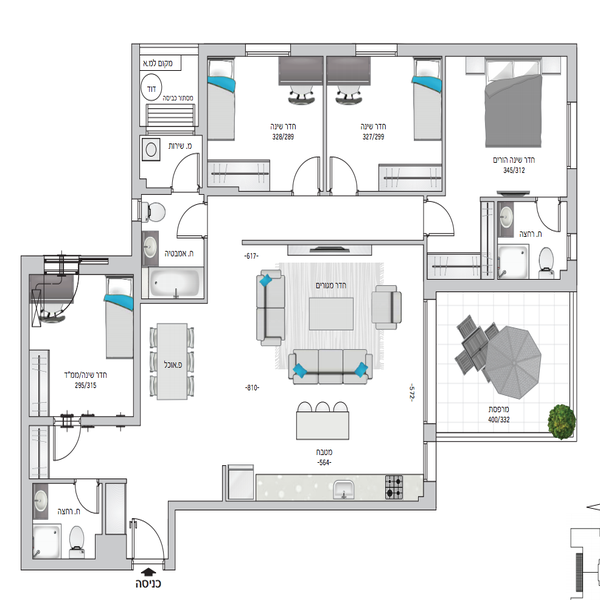door: (127, 514, 166, 566), (425, 195, 462, 239), (54, 415, 86, 462), (327, 153, 357, 197), (177, 203, 211, 239), (535, 195, 565, 235), (293, 156, 321, 198), (74, 477, 101, 519), (173, 156, 199, 194)
room: (19, 255, 141, 428), (198, 38, 327, 197), (444, 44, 577, 197), (323, 40, 446, 198)
wall: (20, 253, 34, 567), (169, 501, 437, 511), (131, 224, 142, 427), (421, 279, 577, 292), (399, 44, 577, 55), (131, 41, 142, 195), (199, 44, 210, 193), (23, 560, 134, 573), (245, 239, 424, 245), (291, 43, 356, 56), (81, 415, 141, 428), (567, 171, 578, 234), (167, 505, 177, 572), (200, 44, 246, 58), (568, 46, 578, 103)
window: (425, 301, 438, 421), (567, 104, 579, 169), (247, 44, 293, 58), (358, 41, 397, 55)
